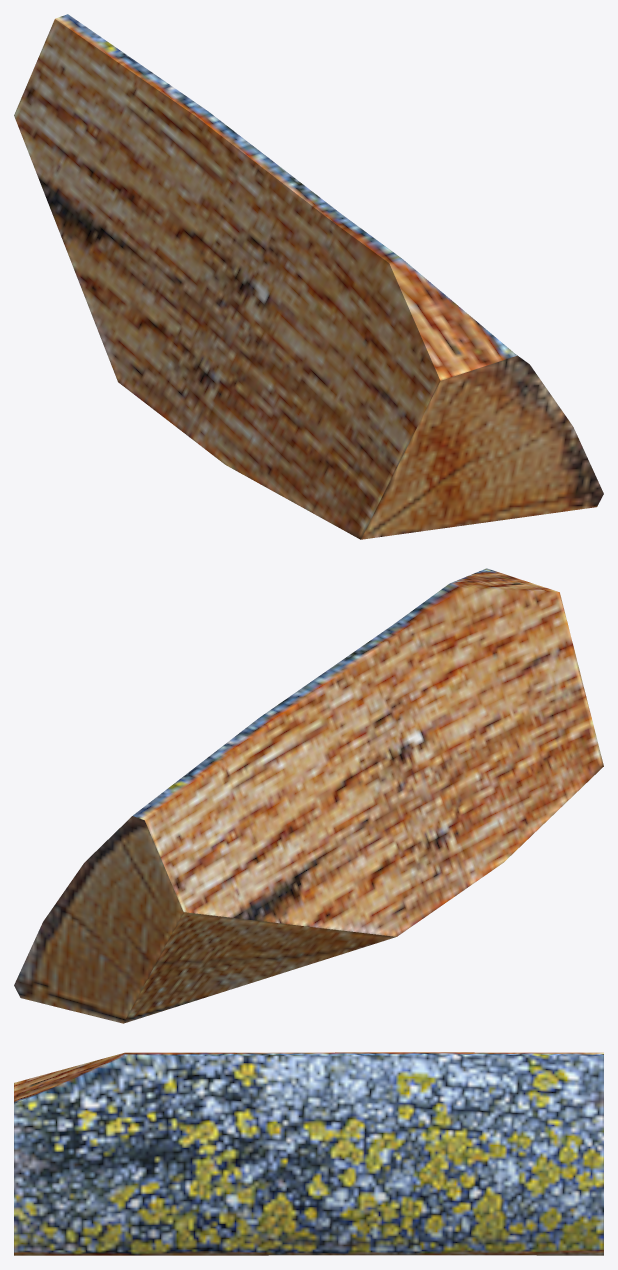
Rendered from FirewoodPoleno_5_4.FBX.
The picture shows the model from 3 angles, top to bottom: view 1: azimuth 30°, elevation 25°; view 2: azimuth 150°, elevation 25°; view 3: azimuth 270°, elevation 25°; orthographic projection. The views are drawn at different scales.
Visible parts, largest first — view 1: FirewoodPoleno_5_4; view 2: FirewoodPoleno_5_4; view 3: FirewoodPoleno_5_4.
Part boxes in pixels (<box>): FirewoodPoleno_5_4: <box>14,14,603,539</box>; FirewoodPoleno_5_4: <box>14,568,603,1023</box>; FirewoodPoleno_5_4: <box>14,1052,603,1255</box>.
Bounding box in the file's own units: 16.56 × 14.46 × 48.2.
